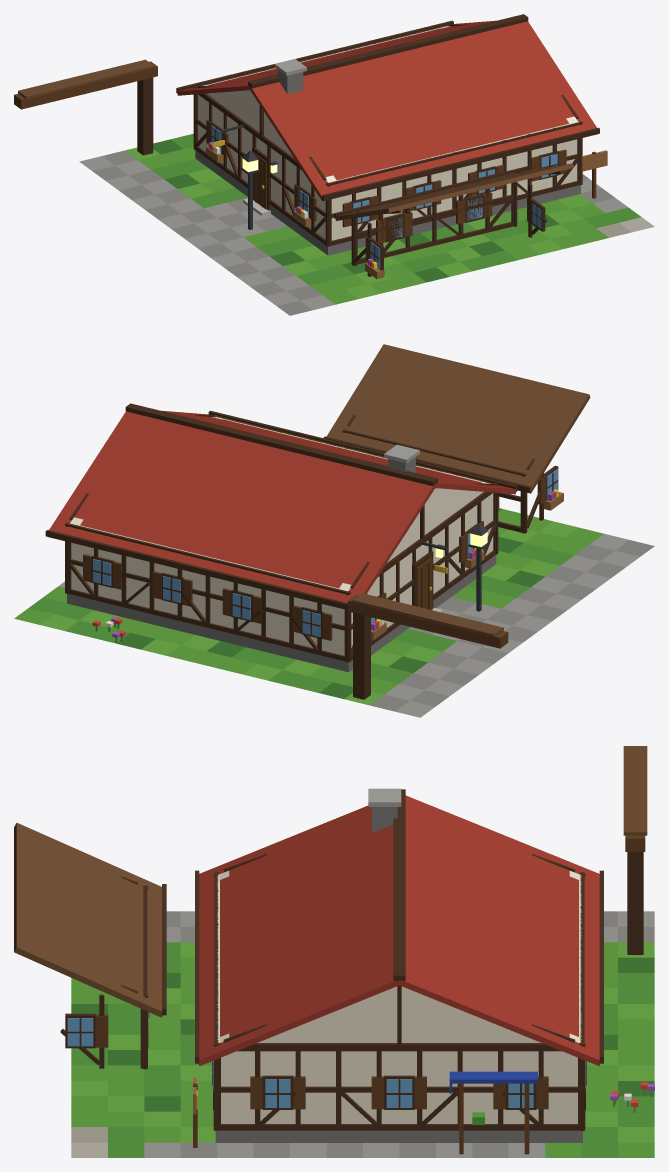
File: chunk_6_9.glb
3 views of the same model, one above another, from view 1: azimuth 30°, elevation 25°; view 2: azimuth 150°, elevation 25°; view 3: azimuth 270°, elevation 25° (orthographic). The views are drawn at different scales.
Visible parts, largest first — view 1: chunk_6_9; view 2: chunk_6_9; view 3: chunk_6_9.
Part boxes in pixels (x1,y1,x2,y2): chunk_6_9: [14, 14, 654, 315]; chunk_6_9: [14, 344, 654, 717]; chunk_6_9: [14, 746, 654, 1157].
Size of the model in its own units: 19.12 by 5.84 by 17.59.
